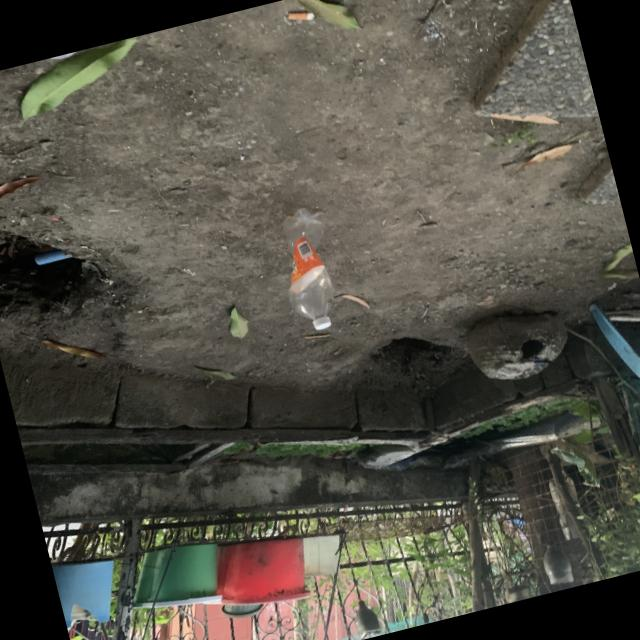Bottle: (283, 208, 333, 329)
